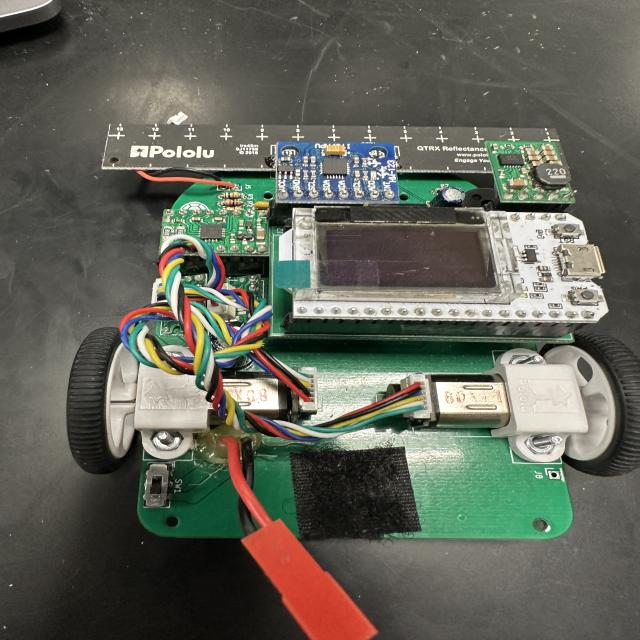robot: (64, 125, 638, 638)
